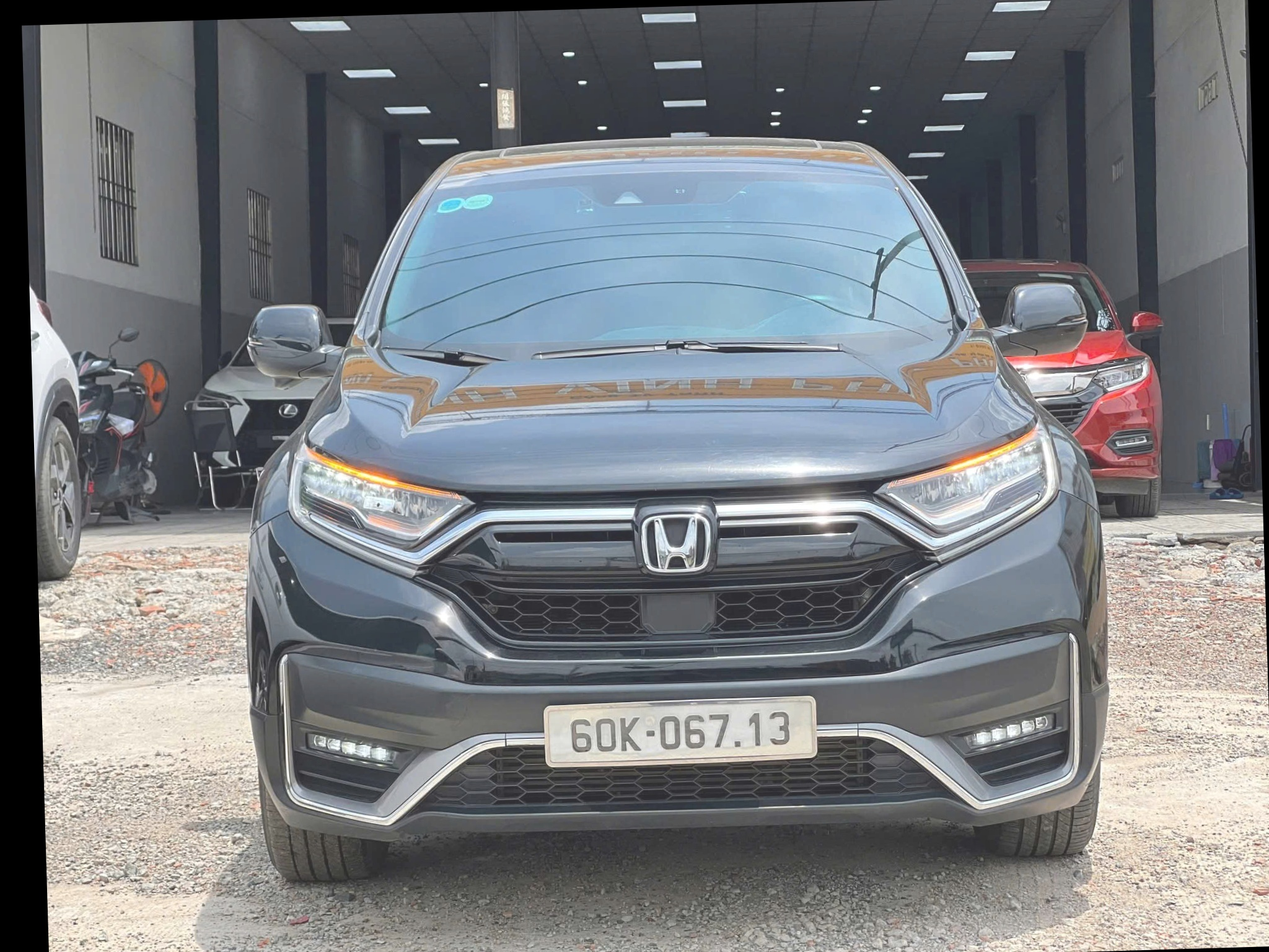Bien-so: (519, 687, 822, 767)
